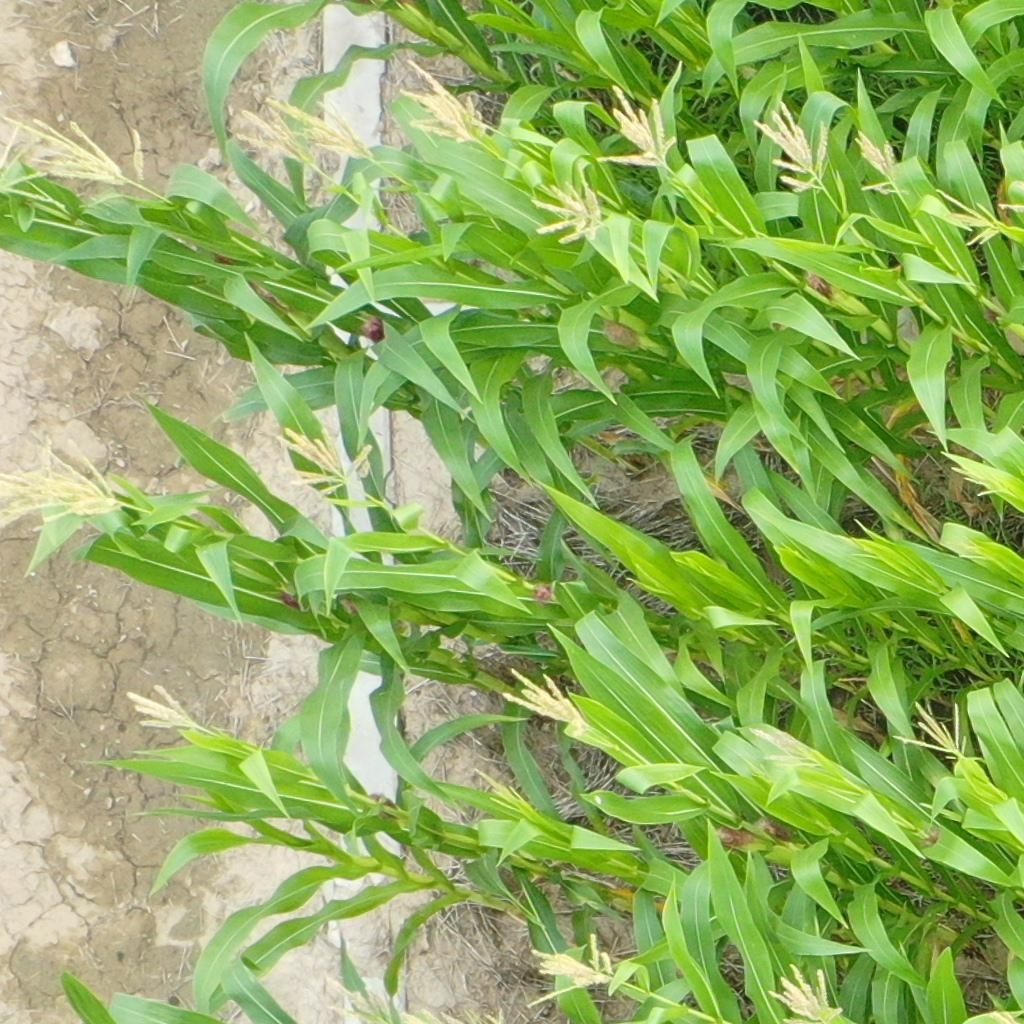Tassel: (1, 104, 147, 189), (13, 435, 118, 528), (270, 426, 372, 504), (750, 99, 830, 194), (264, 91, 371, 161), (596, 83, 677, 169), (396, 55, 486, 128), (1, 438, 70, 531), (525, 164, 605, 243), (888, 697, 979, 766), (500, 664, 589, 731), (933, 186, 1024, 250), (228, 99, 310, 165), (1, 115, 57, 208), (395, 83, 473, 146), (767, 962, 846, 1024), (742, 719, 824, 772), (123, 680, 197, 731), (851, 127, 903, 198), (327, 978, 394, 1024), (472, 765, 529, 814), (950, 458, 1010, 496), (403, 1007, 464, 1024), (990, 1010, 1021, 1024)
